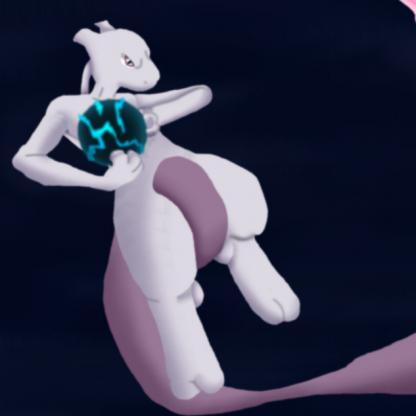Mewtwo: (27, 24, 416, 416)
